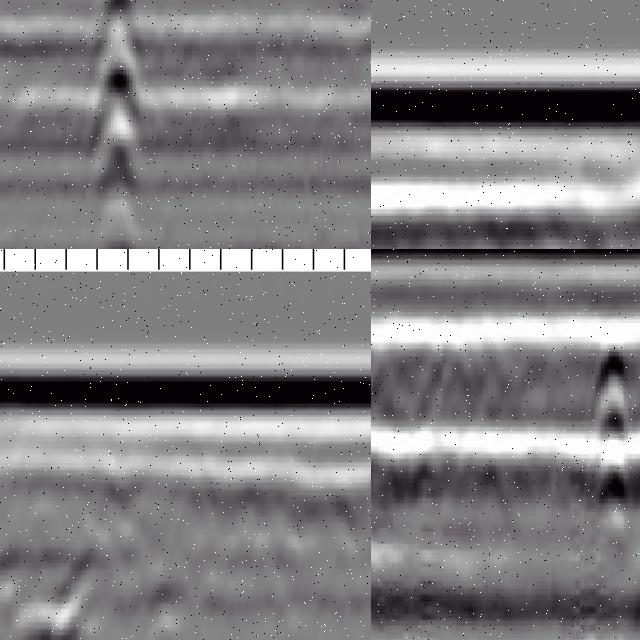crack: (580, 328, 637, 554), (94, 1, 139, 250)
loose: (1, 570, 142, 640)
